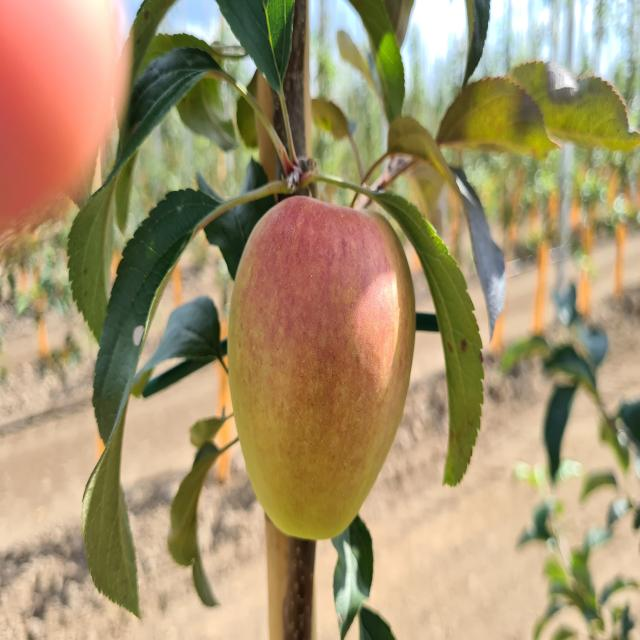Apple: (229, 196, 415, 540)
